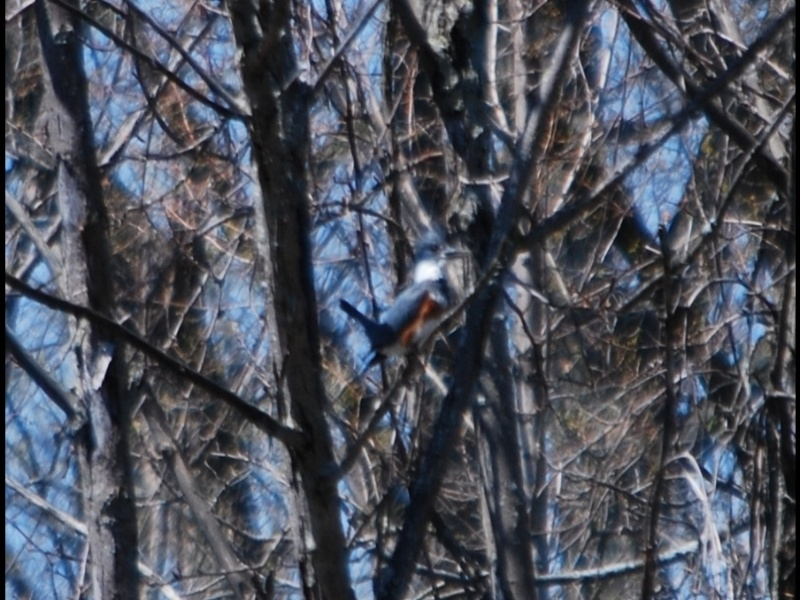kingfisher: (340, 222, 466, 381)
